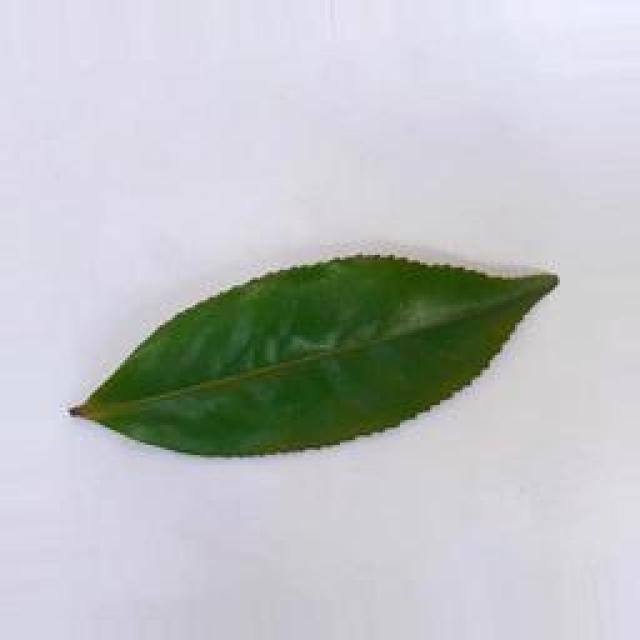Healthy: (66, 248, 565, 454)
